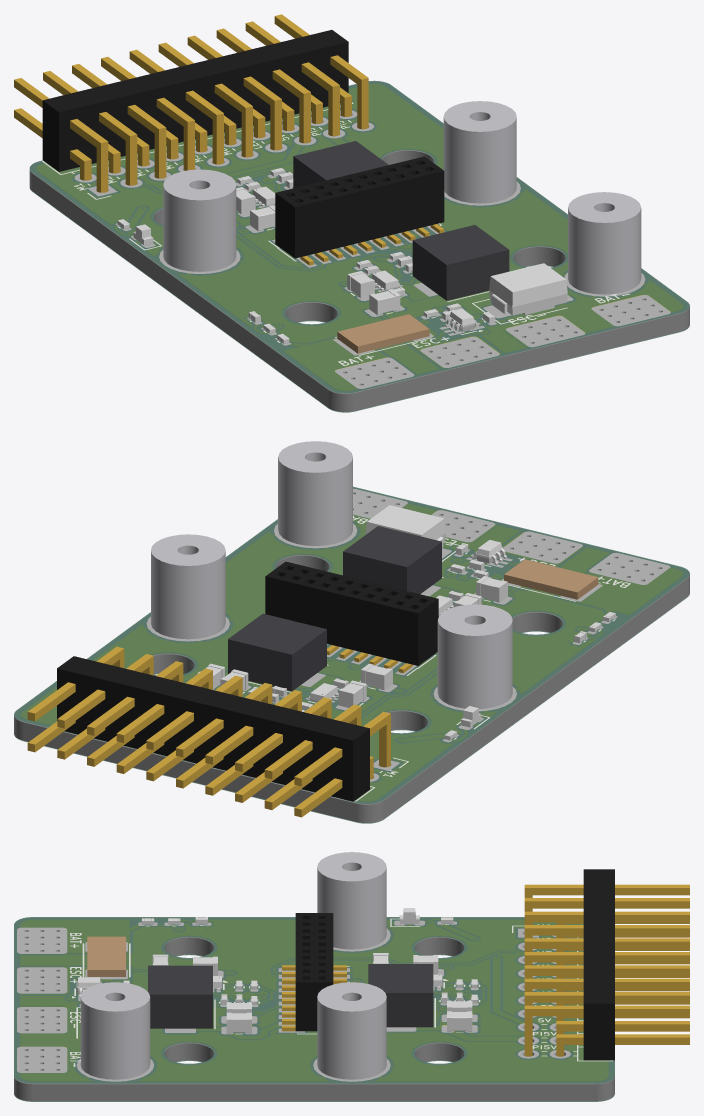
The model's file is lower.glb.
The picture shows the model from 3 angles, top to bottom: view 1: azimuth 30°, elevation 25°; view 2: azimuth 150°, elevation 25°; view 3: azimuth 270°, elevation 25°; orthographic projection. The views are drawn at different scales.
Parts seen in each view (by area): view 1: =>[0:1:1:19], body (×5), =>[0:1:1:14], standoff (×3), =>[0:1:1:21], pins, =>[0:1:1:15], D1, =>[0:1:1:17], =>[0:1:1:20], leads, C11; view 2: body (×5), =>[0:1:1:19], standoff (×3), =>[0:1:1:14], =>[0:1:1:21], pins, =>[0:1:1:15], D1, =>[0:1:1:17], =>[0:1:1:20], C11, C21 (+2 smaller); view 3: =>[0:1:1:19], =>[0:1:1:14], pins, =>[0:1:1:21], body (×5), standoff (×3), =>[0:1:1:15], =>[0:1:1:17], leads, =>[0:1:1:20], C15, C25.
Boxes of the visible parts, x1,y1,x2,y2 form: =>[0:1:1:19]: (29, 80, 689, 393); body (×5): (42, 30, 509, 353); =>[0:1:1:14]: (37, 84, 682, 390); standoff (×3): (163, 101, 641, 294); =>[0:1:1:21]: (29, 82, 689, 411); pins: (14, 14, 368, 192); =>[0:1:1:15]: (74, 110, 670, 388); D1: (489, 263, 567, 315); =>[0:1:1:17]: (42, 102, 629, 365); =>[0:1:1:20]: (29, 188, 689, 412); leads: (300, 224, 444, 265); C11: (369, 289, 400, 314); body (×5): (57, 526, 598, 801); =>[0:1:1:19]: (14, 486, 689, 803); standoff (×3): (151, 441, 512, 708); =>[0:1:1:14]: (21, 504, 682, 801); =>[0:1:1:21]: (14, 488, 689, 822); pins: (27, 646, 390, 817); =>[0:1:1:15]: (146, 489, 670, 781); D1: (365, 505, 445, 548); =>[0:1:1:17]: (77, 515, 630, 801); =>[0:1:1:20]: (14, 593, 689, 823); C11: (476, 576, 507, 602); C21: (361, 663, 392, 690); =>[0:1:1:19]: (14, 917, 614, 1083); =>[0:1:1:14]: (20, 919, 607, 1080); pins: (524, 884, 689, 1056); =>[0:1:1:21]: (14, 918, 614, 1101); body (×5): (87, 869, 614, 1060); standoff (×3): (80, 852, 386, 1079); =>[0:1:1:15]: (17, 920, 570, 1081); =>[0:1:1:17]: (70, 918, 612, 1066); leads: (282, 965, 346, 1031); =>[0:1:1:20]: (14, 954, 614, 1101); C15: (226, 1012, 251, 1033); C25: (447, 1011, 472, 1031).
Size of the model in its own units: 0.0315 by 0.009 by 0.054.
